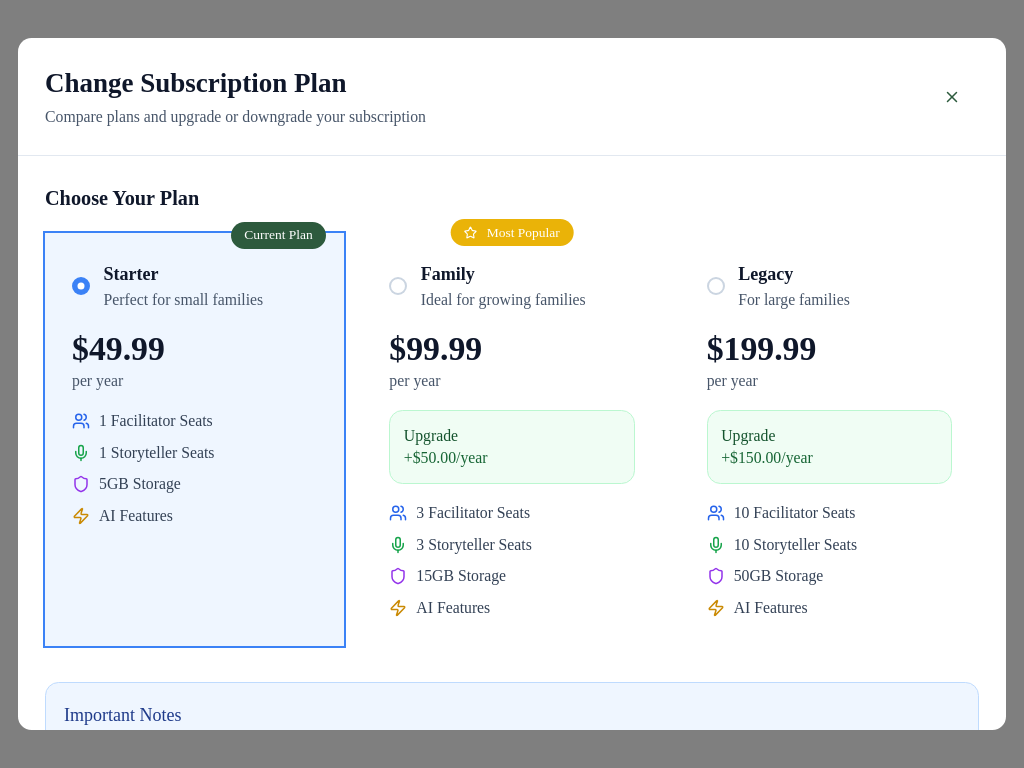
Test: SubscriptionUpgradeModal › Loading States › disables buttons during processing
# Select Family plan
Click the text "Family" at (448, 274), box [421,260,586,311]
(page scrolled)
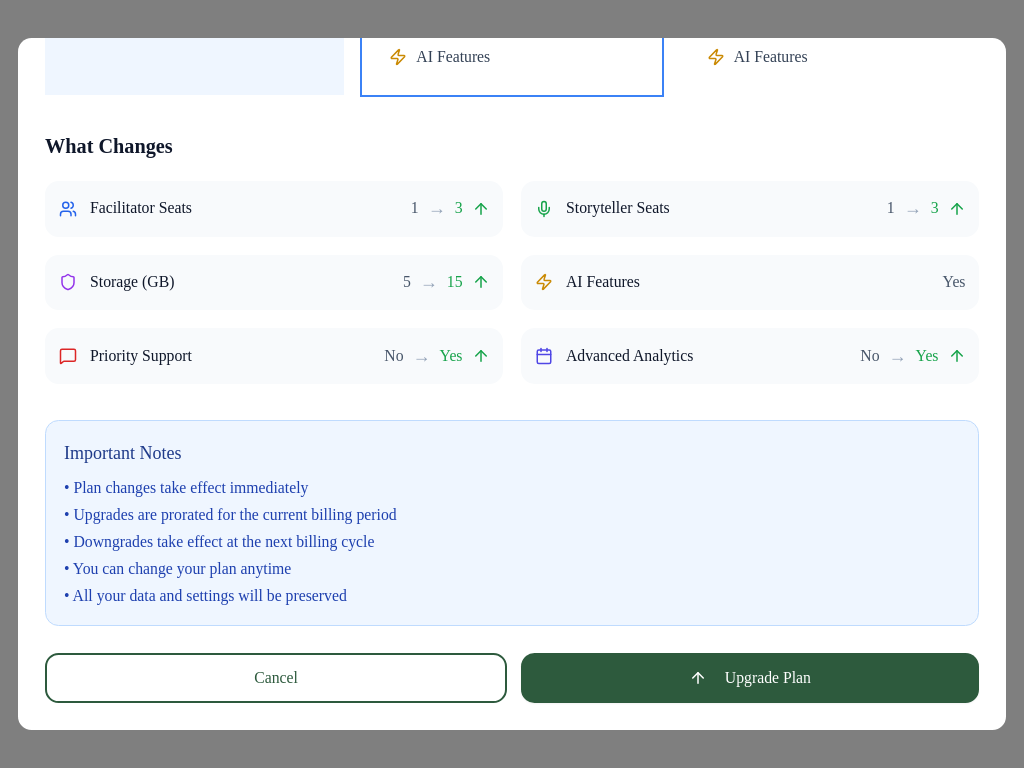
# Click upgrade button
Click the button "Upgrade Plan" at (750, 678), box [521,653,979,703]
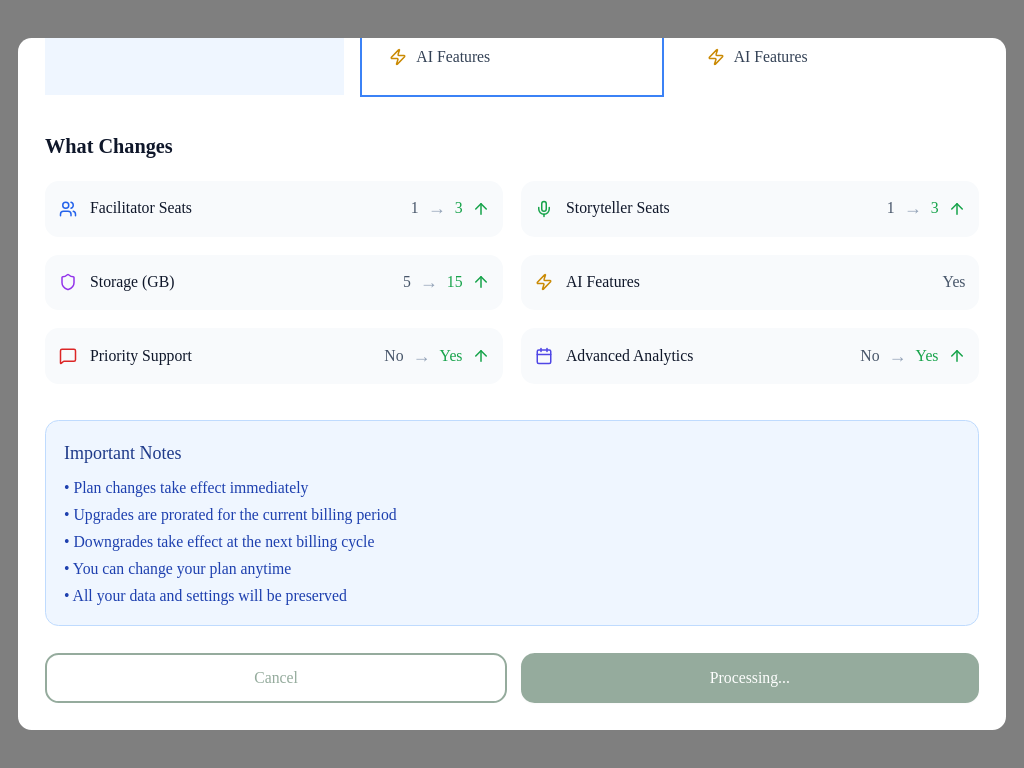
Check: the button "Cancel" is disabled, box [45,653,507,703]
